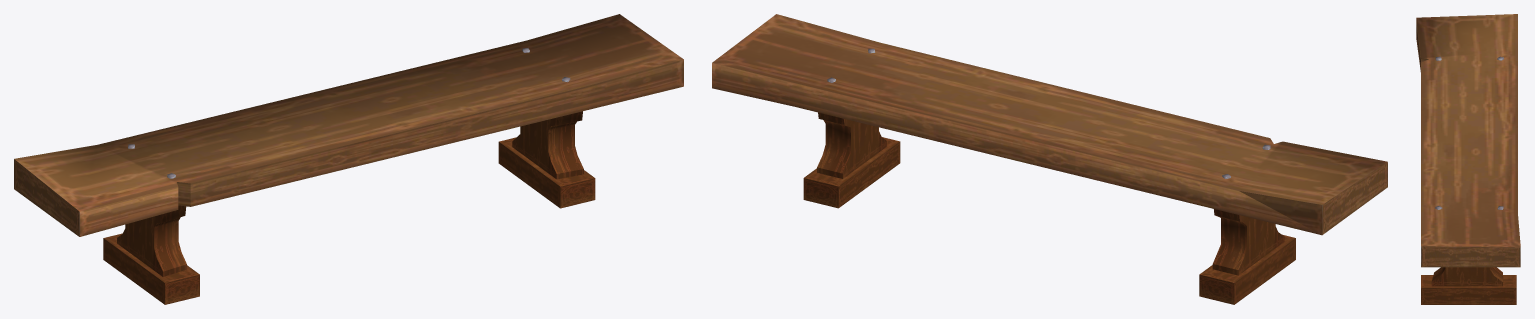
Rendered from bench.lod1.gltf.
The picture shows the model from 3 angles, left to right: view 1: azimuth 30°, elevation 25°; view 2: azimuth 150°, elevation 25°; view 3: azimuth 270°, elevation 25°; orthographic projection. The views are drawn at different scales.
Parts seen in each view (by area): view 1: Bench; view 2: Bench; view 3: Bench.
Boxes of the visible parts, x1,y1,x2,y2 form: Bench: (14, 14, 683, 304); Bench: (712, 14, 1387, 304); Bench: (1416, 14, 1520, 304).
Bounding box in the file's own units: 2.78 × 0.5332 × 0.5342.
Materials: 2 (2 with a texture image).
